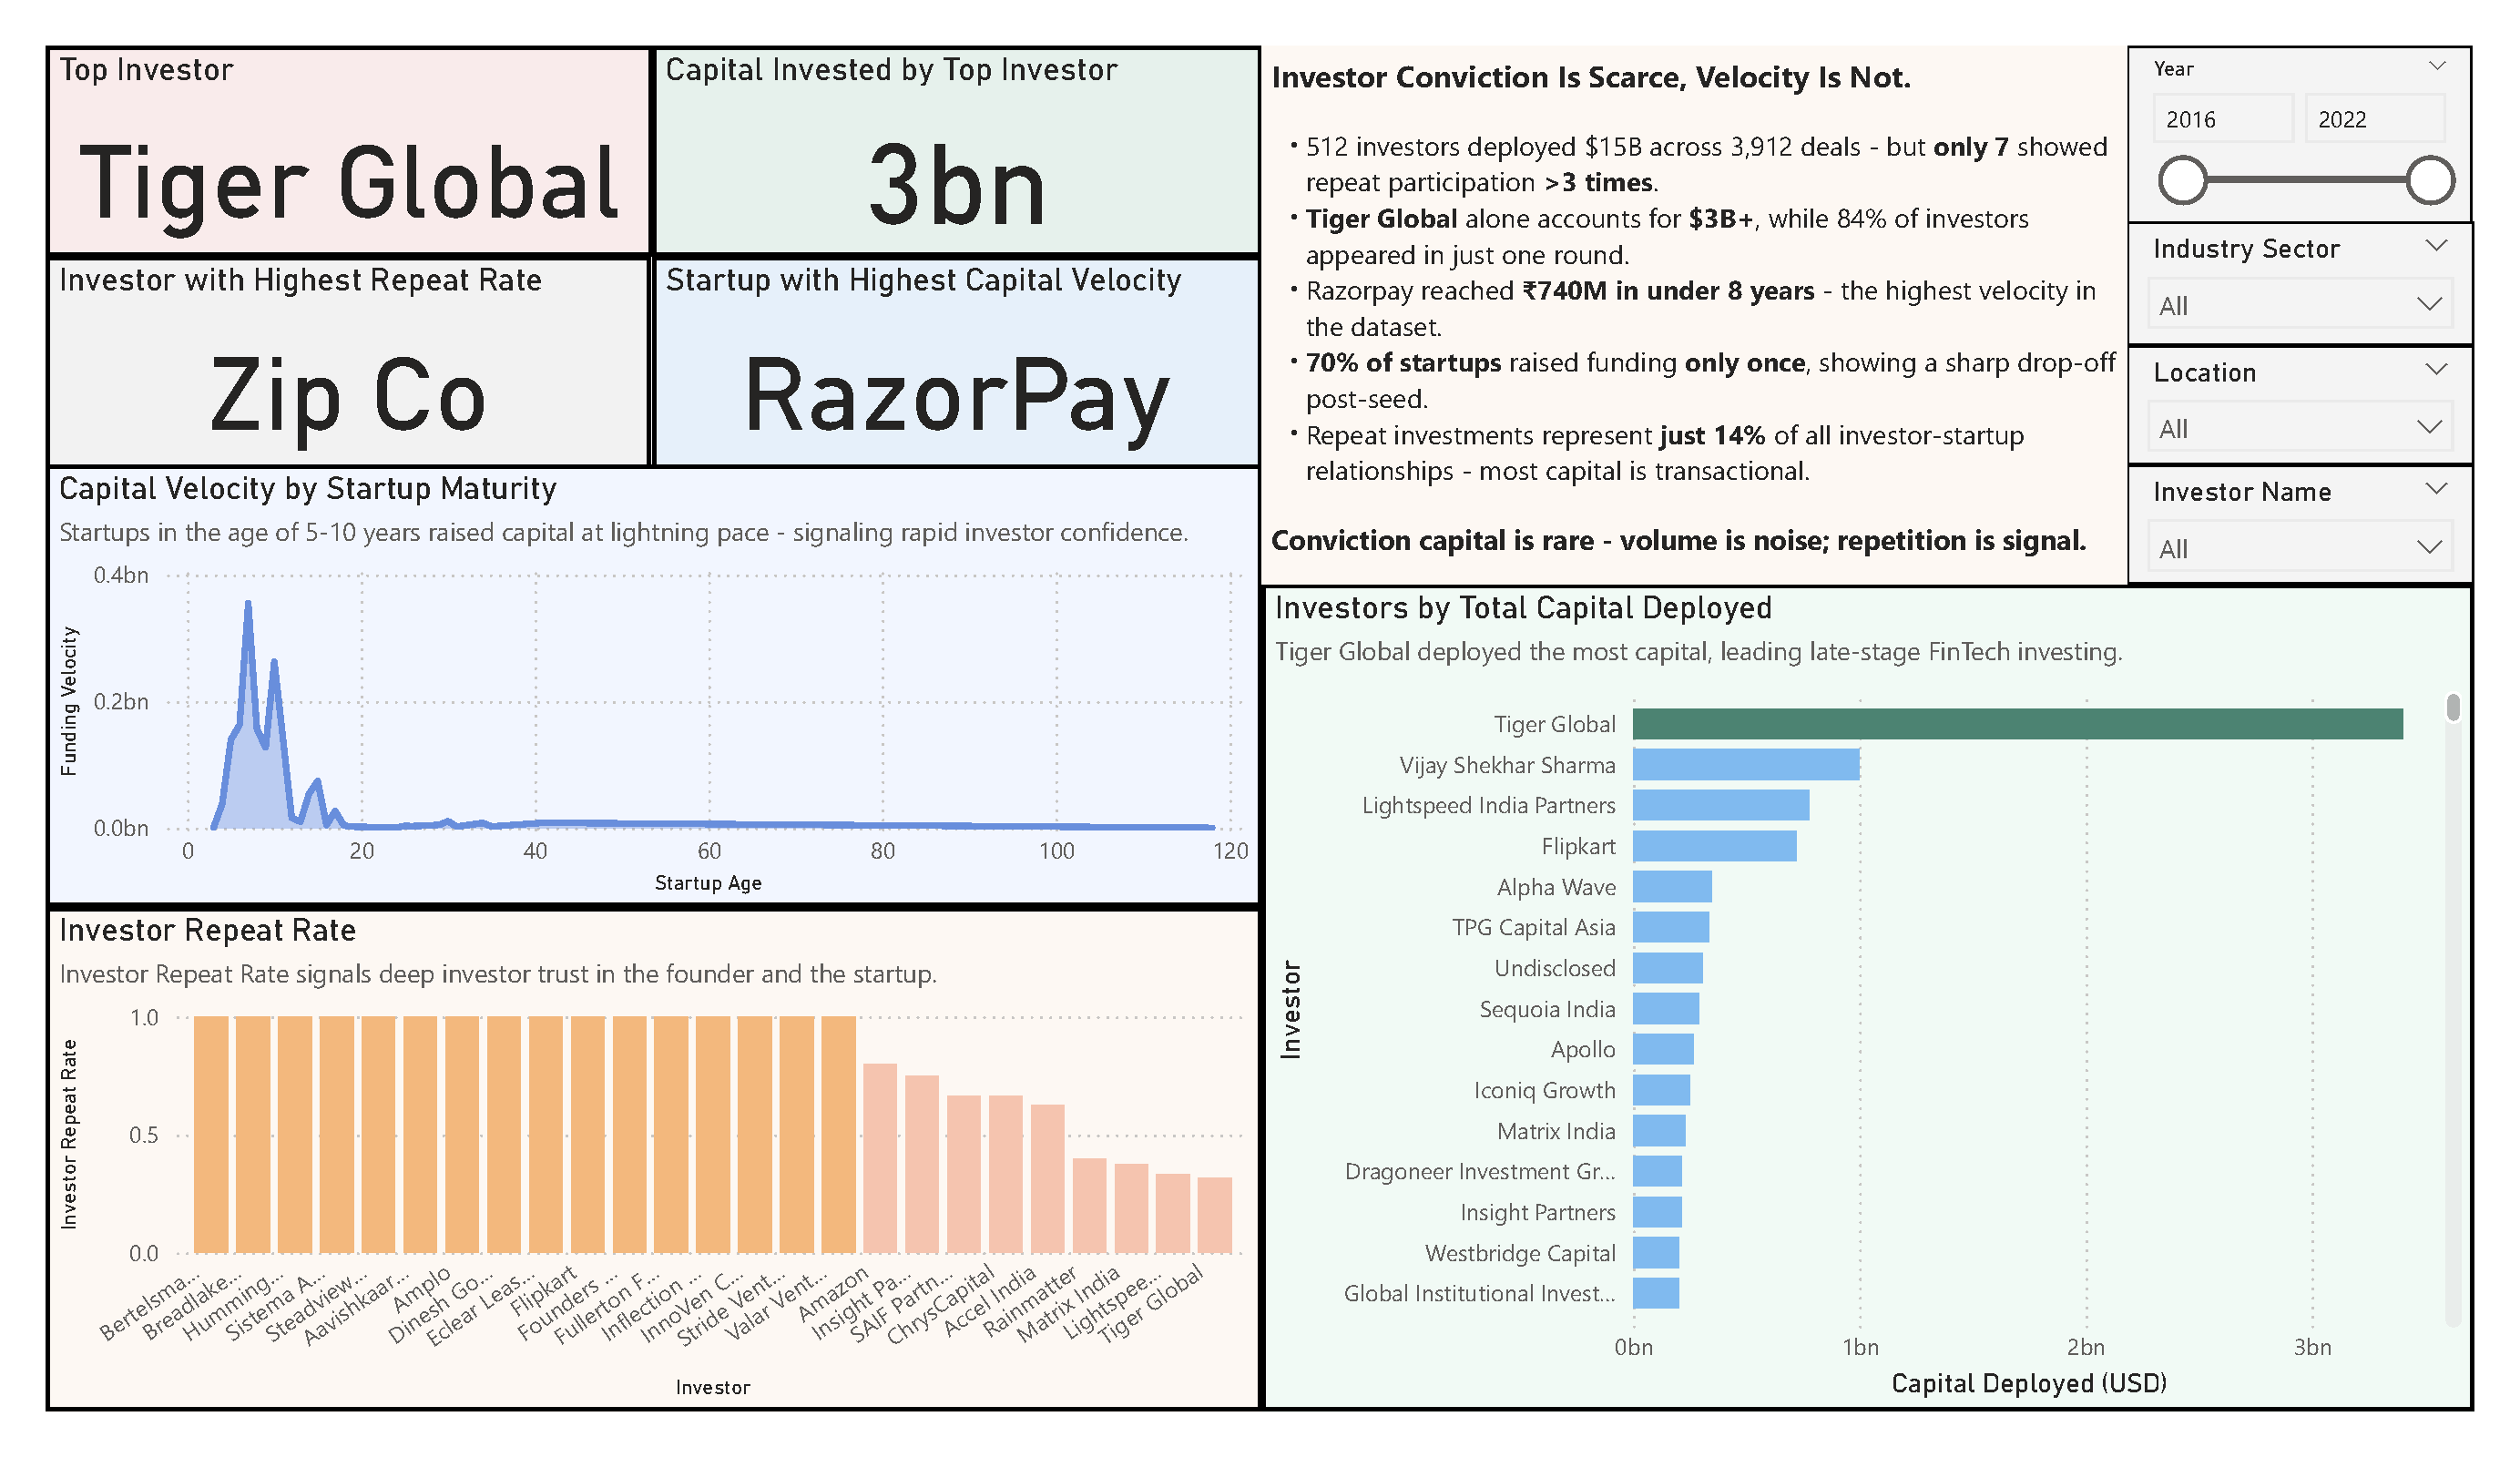

This screenshot's page, from the dashboard's own definition file:
{"tool":"powerbi","page":{"name":"Page 3","canvas":[1280,720],"ordinal":2},"visuals":[{"type":"barChart","title":"Investors by Total Capital Deployed","fields":{"Category":["FintechData.Investor 1","FintechData.Investor 2","FintechData.Investor 3"],"Y":["FintechData.Amount (in USD)"]},"box":[640.8,283.7,639.5,436.6],"z":0},{"type":"lineChart","title":"Capital Velocity by Startup Maturity","fields":{"Category":["FintechData.C Startup Age"],"Y":["FintechData.Funding Velocity"]},"box":[0,221.3,640.8,232.3],"z":1000},{"type":"columnChart","title":"Investor Repeat Rate","fields":{"Y":["InvestorDeals.LoyaltyScore"],"Category":["InvestorDeals.Investor"]},"box":[0,453.7,640.8,266.6],"z":2000},{"type":"card","title":"Top Investor","fields":{"Values":["FintechData.Top Investor"]},"box":[0,0,320.4,111.3],"z":3000},{"type":"card","title":"Investor with Highest Repeat Rate","fields":{"Values":["FintechData.TopLoyalInvestor"]},"box":[0,111.3,319.2,111.3],"z":4000},{"type":"card","title":"Startup with Highest Capital Velocity","fields":{"Values":["FintechData.MaxVelocityStartup"]},"box":[320.4,111.3,320.4,111.3],"z":5000},{"type":"card","title":"Capital Invested by Top Investor","fields":{"Values":["FintechData.TopInvestorCapital"]},"box":[320.4,0,320.4,111.3],"z":6000},{"type":"slicer","fields":{"Values":["DateTable.Year"]},"box":[1096.9,0,182.2,97.8],"z":7000},{"type":"slicer","fields":{"Values":["FintechData.Industry Sector"]},"box":[1096.6,92.9,183.4,64.8],"z":8000},{"type":"slicer","fields":{"Values":["FintechData.Location"]},"box":[1096.6,157.7,183.4,63.6],"z":9000},{"type":"slicer","fields":{"Values":["FintechData.Investor 1"]},"box":[1096.6,221.3,183.4,62.4],"z":10000},{"type":"textbox","box":[640.8,0,456.1,283.7],"z":11000}]}

Visuals, with their boxes on the page's 1280x720 design canvas (x1, y1, x2, y2). These are canvas units, not pixel positions in the 2520x1457 screenshot, which may show the page scaled, cropped or inside an application window:
"Investors by Total Capital Deployed" barChart: select_region(641, 284, 1280, 720)
"Capital Velocity by Startup Maturity" lineChart: select_region(0, 221, 641, 454)
"Investor Repeat Rate" columnChart: select_region(0, 454, 641, 720)
"Top Investor" card: select_region(0, 0, 320, 111)
"Investor with Highest Repeat Rate" card: select_region(0, 111, 319, 223)
"Startup with Highest Capital Velocity" card: select_region(320, 111, 641, 223)
"Capital Invested by Top Investor" card: select_region(320, 0, 641, 111)
slicer - DateTable.Year: select_region(1097, 0, 1279, 98)
slicer - FintechData.Industry Sector: select_region(1097, 93, 1280, 158)
slicer - FintechData.Location: select_region(1097, 158, 1280, 221)
slicer - FintechData.Investor 1: select_region(1097, 221, 1280, 284)
textbox: select_region(641, 0, 1097, 284)
